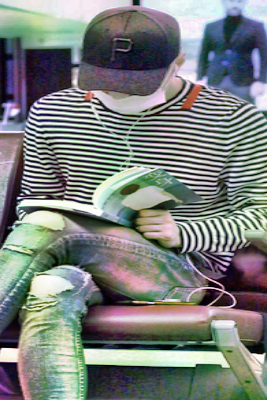mask_weared_incorrect: (94, 76, 171, 116)
